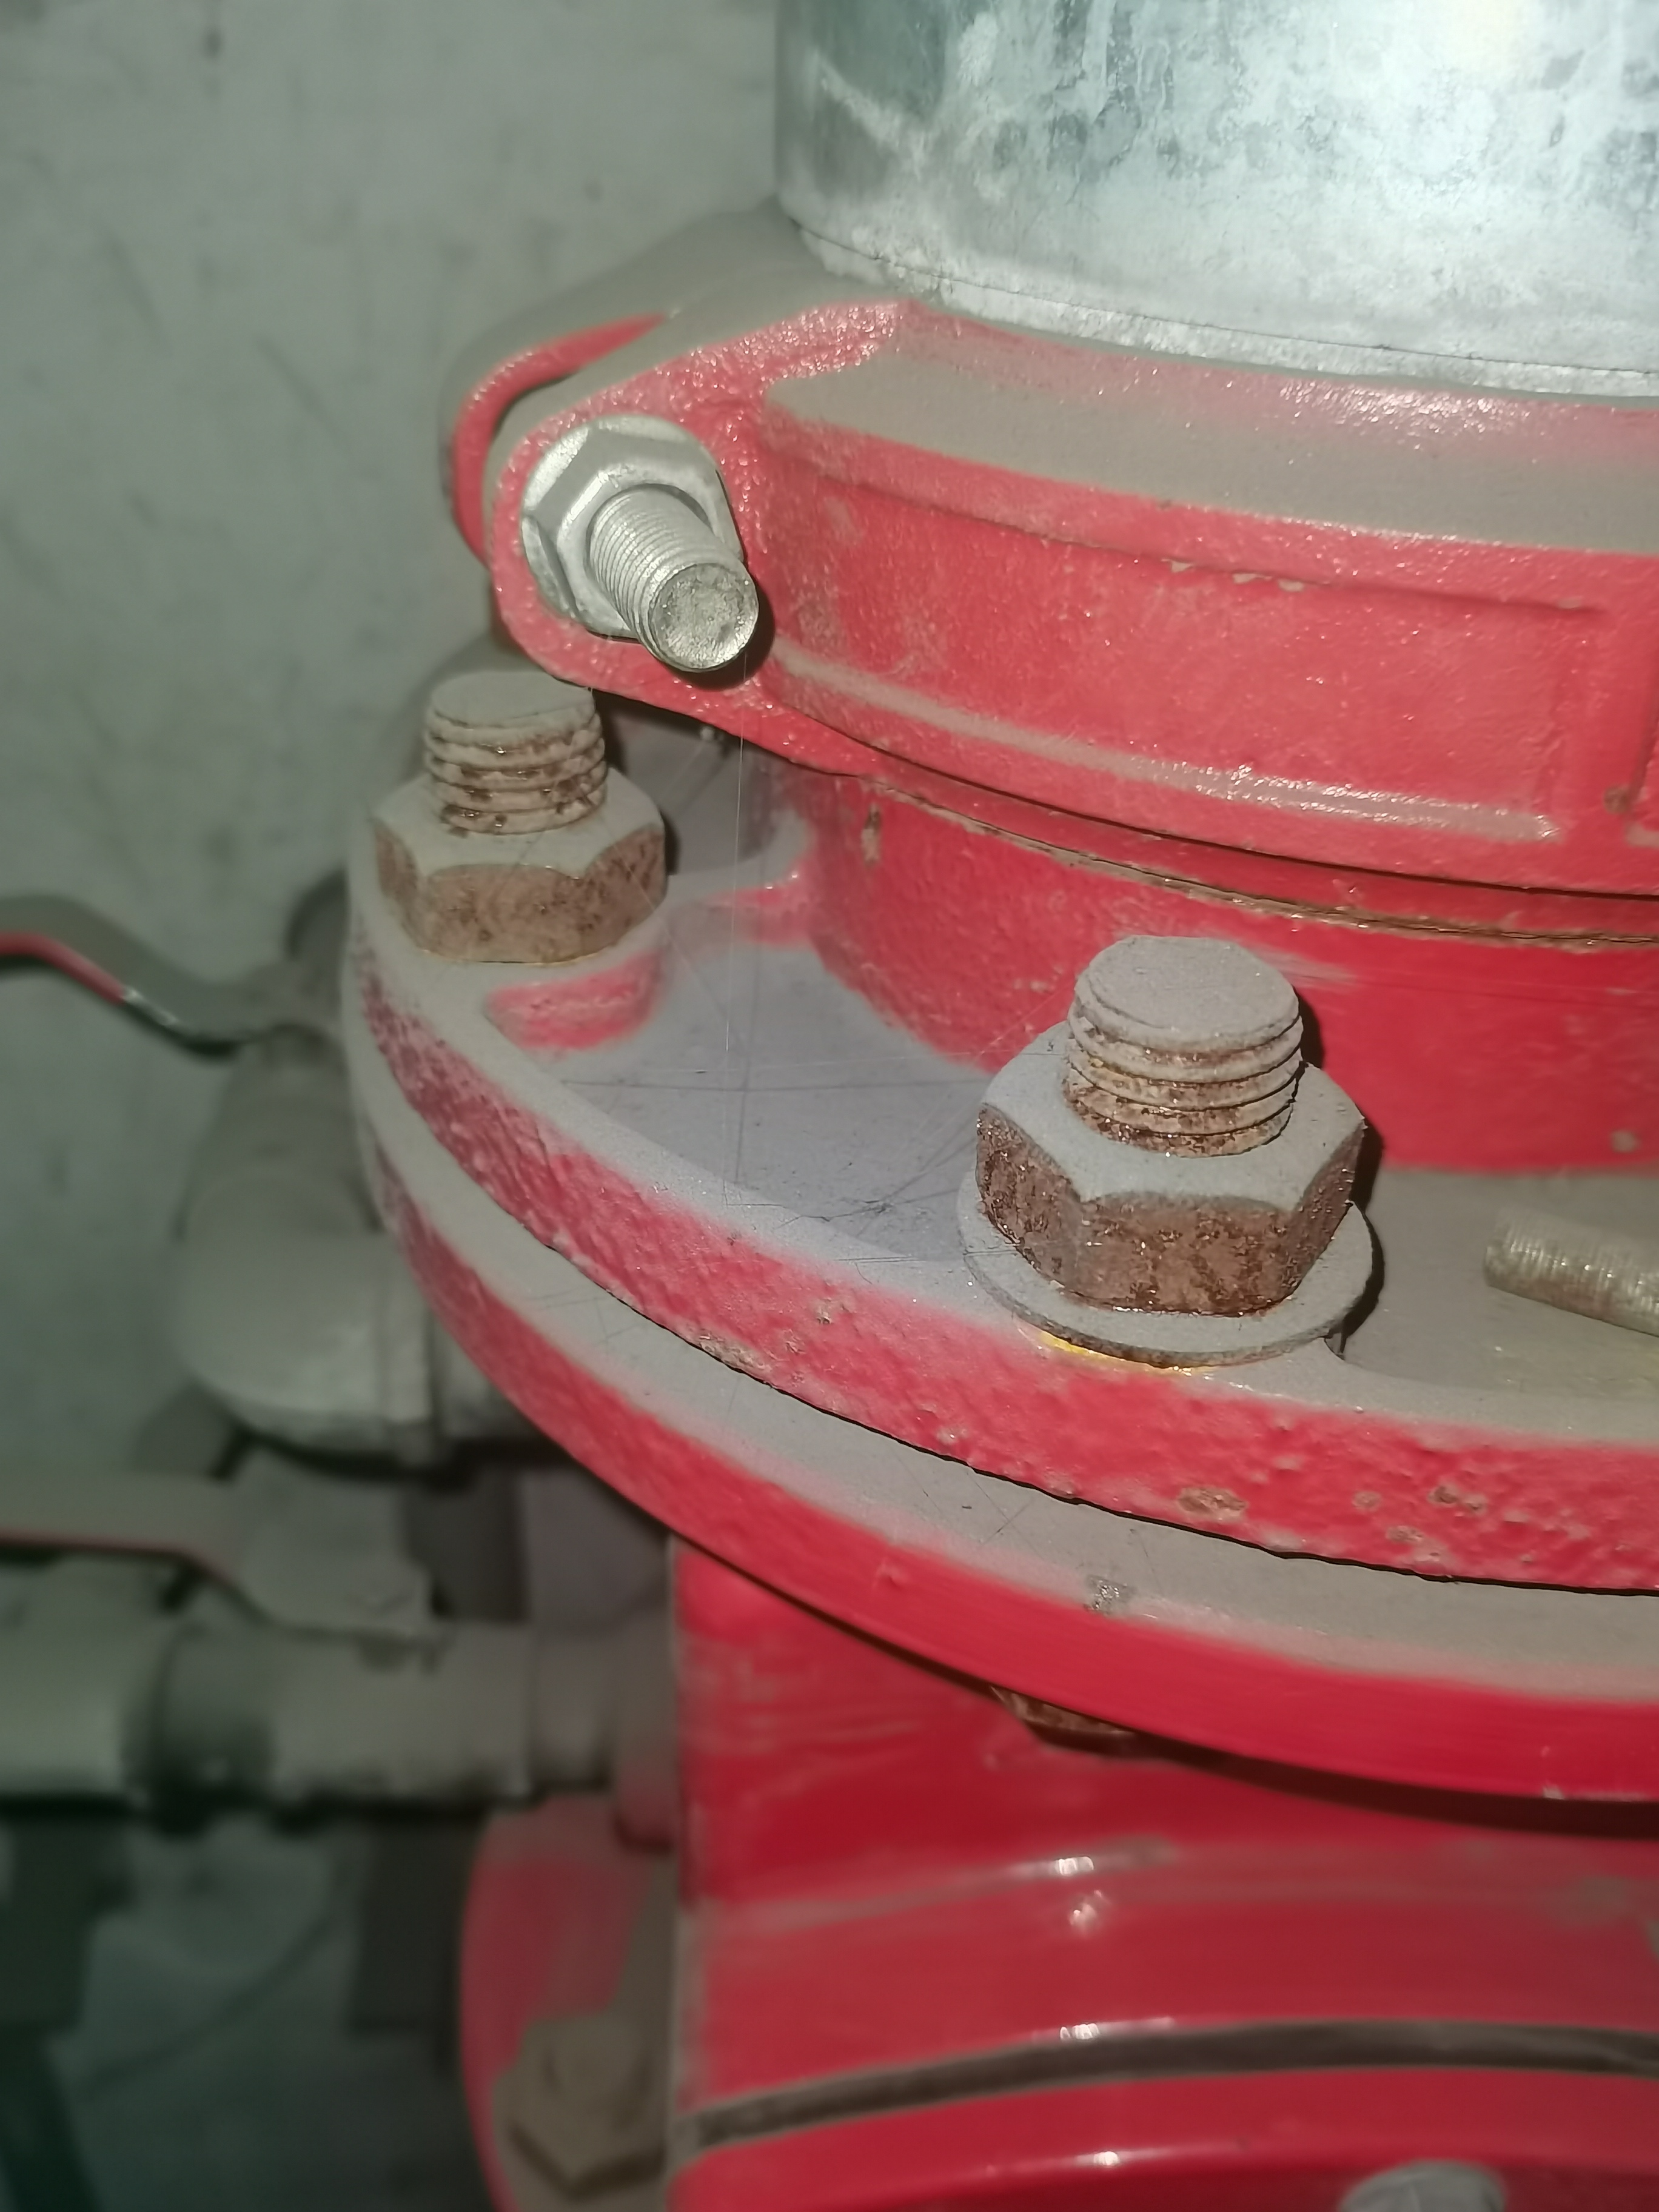bolt_b: (962, 974, 1378, 1338), (350, 726, 687, 977), (519, 418, 763, 664)
vague: (493, 1993, 688, 2200)
